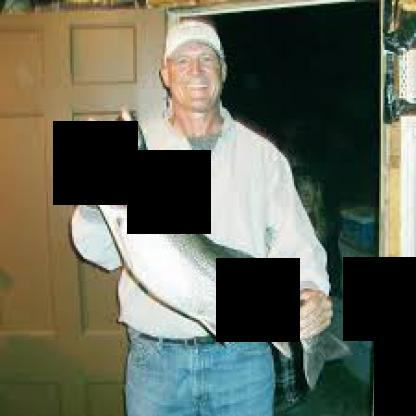fish: (79, 102, 345, 383)
